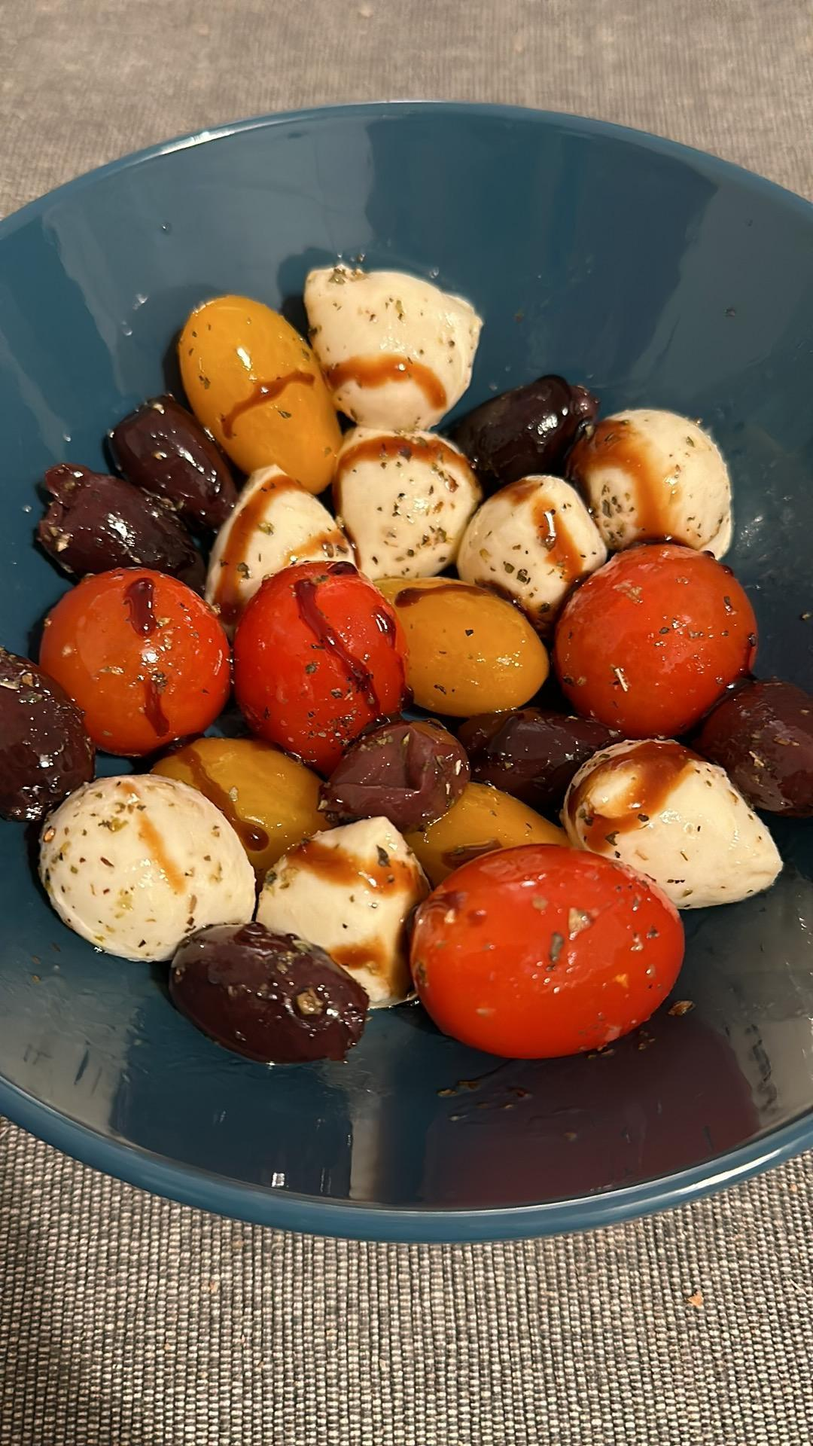tomato: (406, 845, 683, 1055), (553, 540, 755, 712), (239, 557, 408, 753), (41, 576, 232, 742)
